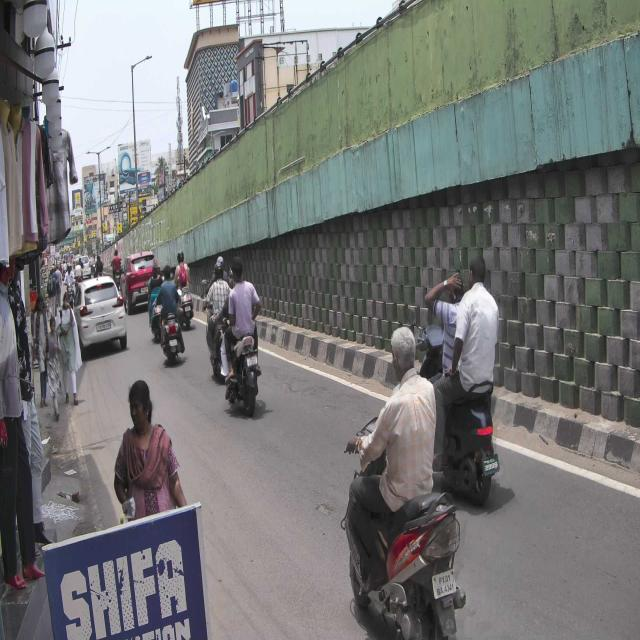single_rider: (343, 327, 466, 640)
